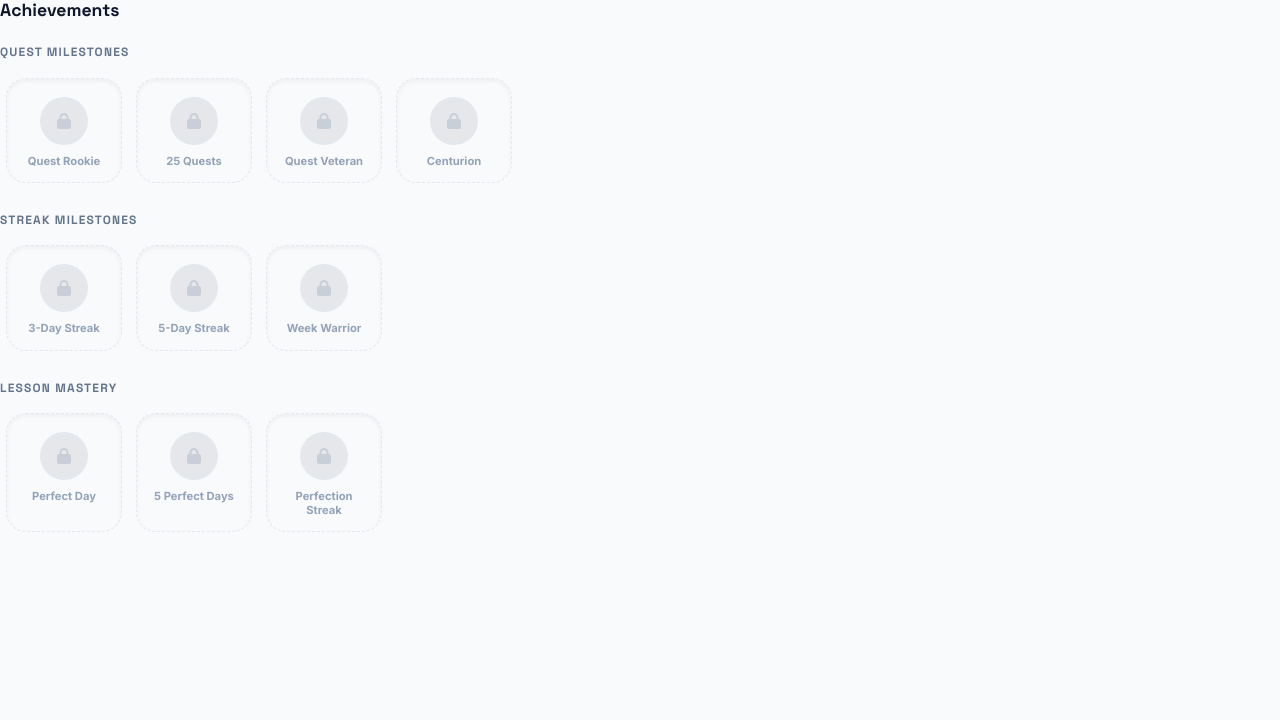
Test case: AchievementsSection › opens a modal that explains the requirement for locked achievements
What coordinates should you click on to do the following:
click the button with aria-label "View details for 25 Quests"
I would click on:
 (194, 130)
Its box is [136,78,252,183].
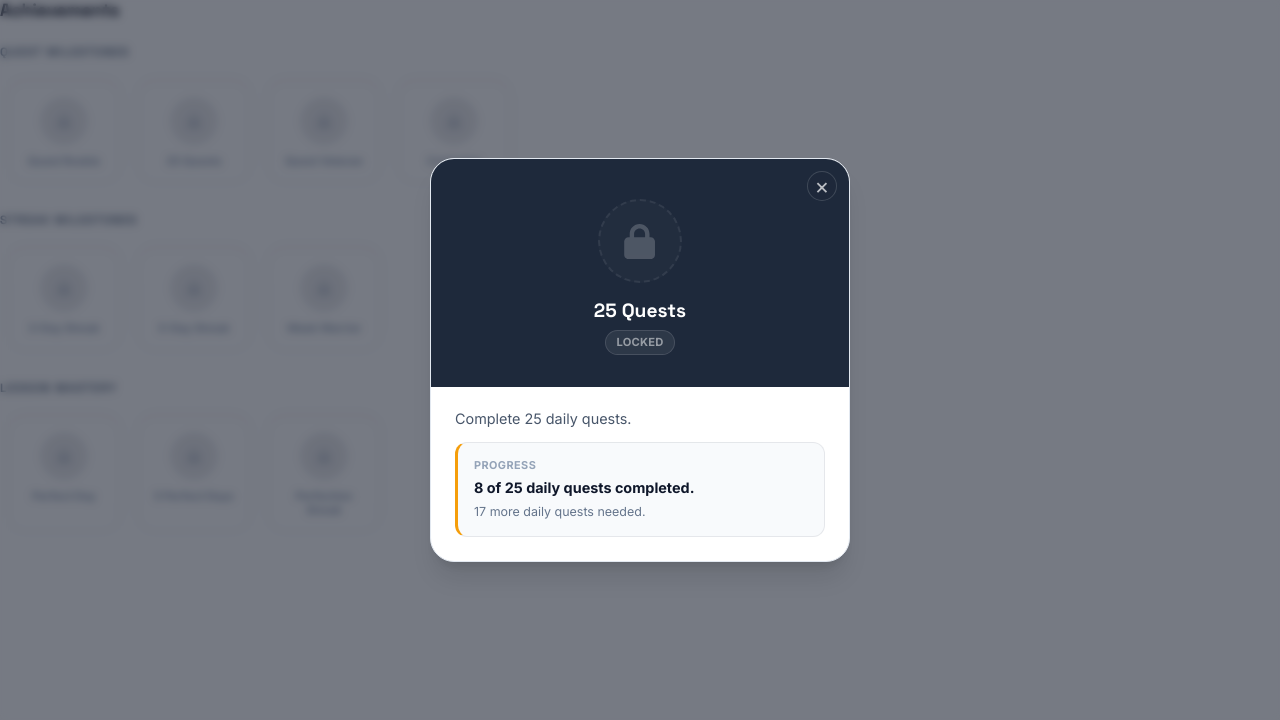
Check: the dialog is shown
Check: the text "Complete 25 daily quests." is shown, box [455,410,632,427]
Check: the text "8 of 25 daily quests completed." is shown, box [474,479,694,496]
